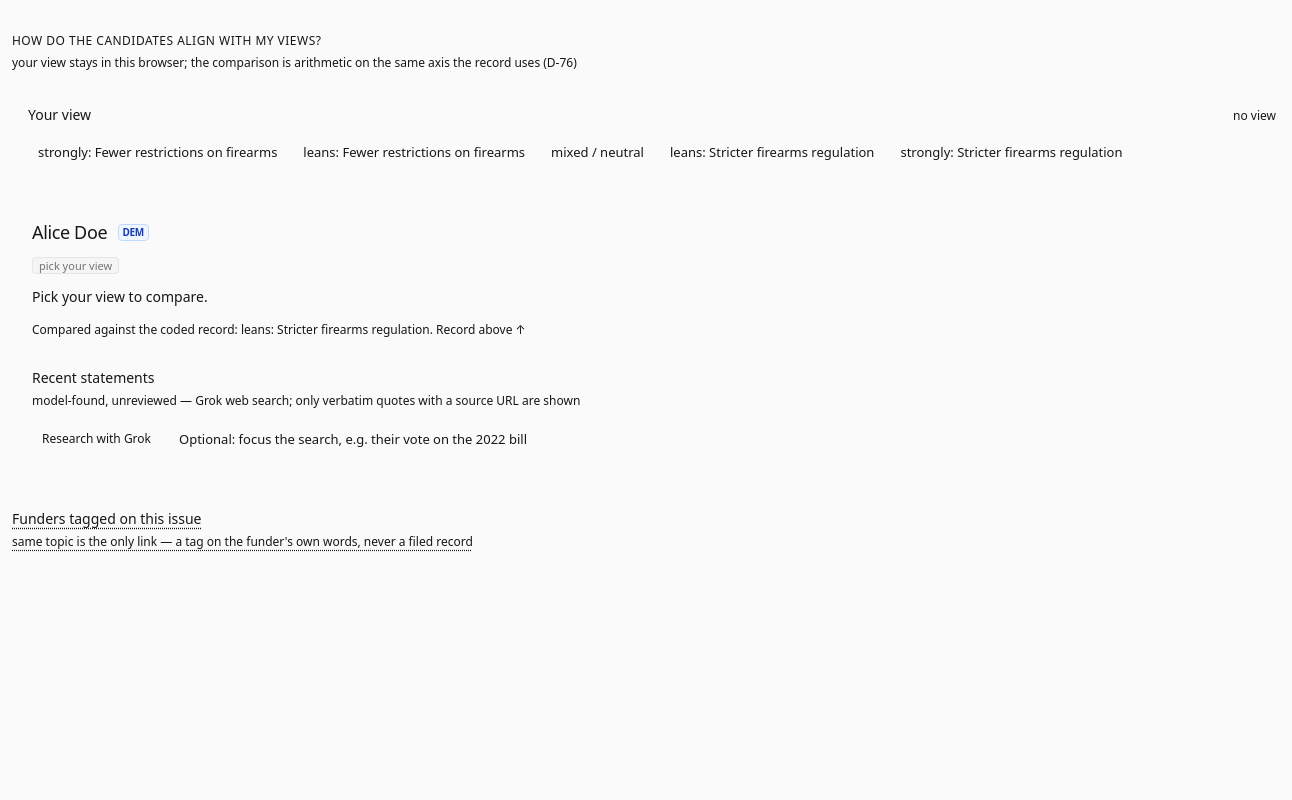
AlignPanel › submits a trimmed question and shows the focused-on copy
The width and height of the screenshot is (1292, 800).
Type "  How did they vote?  " into the field named "Research question".
click(396, 439); type("  How did they vote?  ")  # box [169,422,624,456]
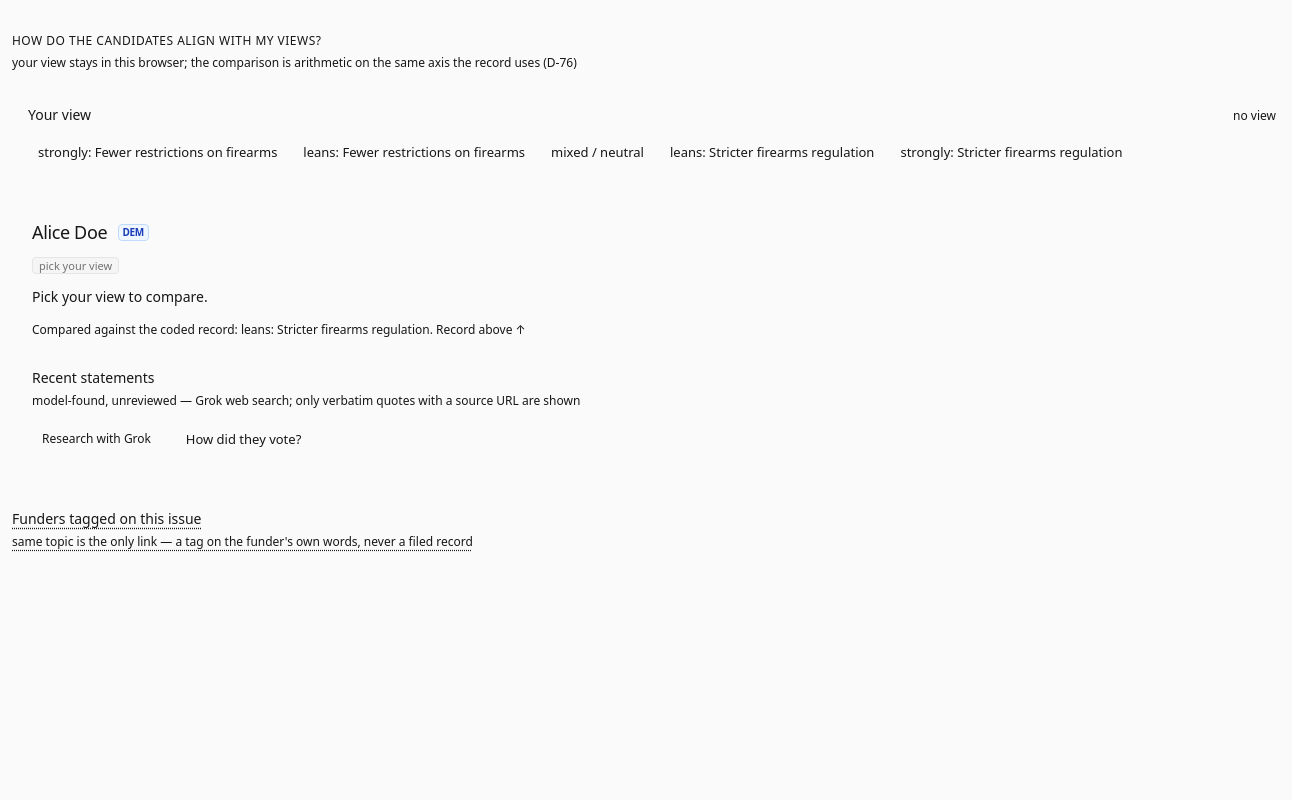
Submit the form named "Research question", box [32,422,624,456]
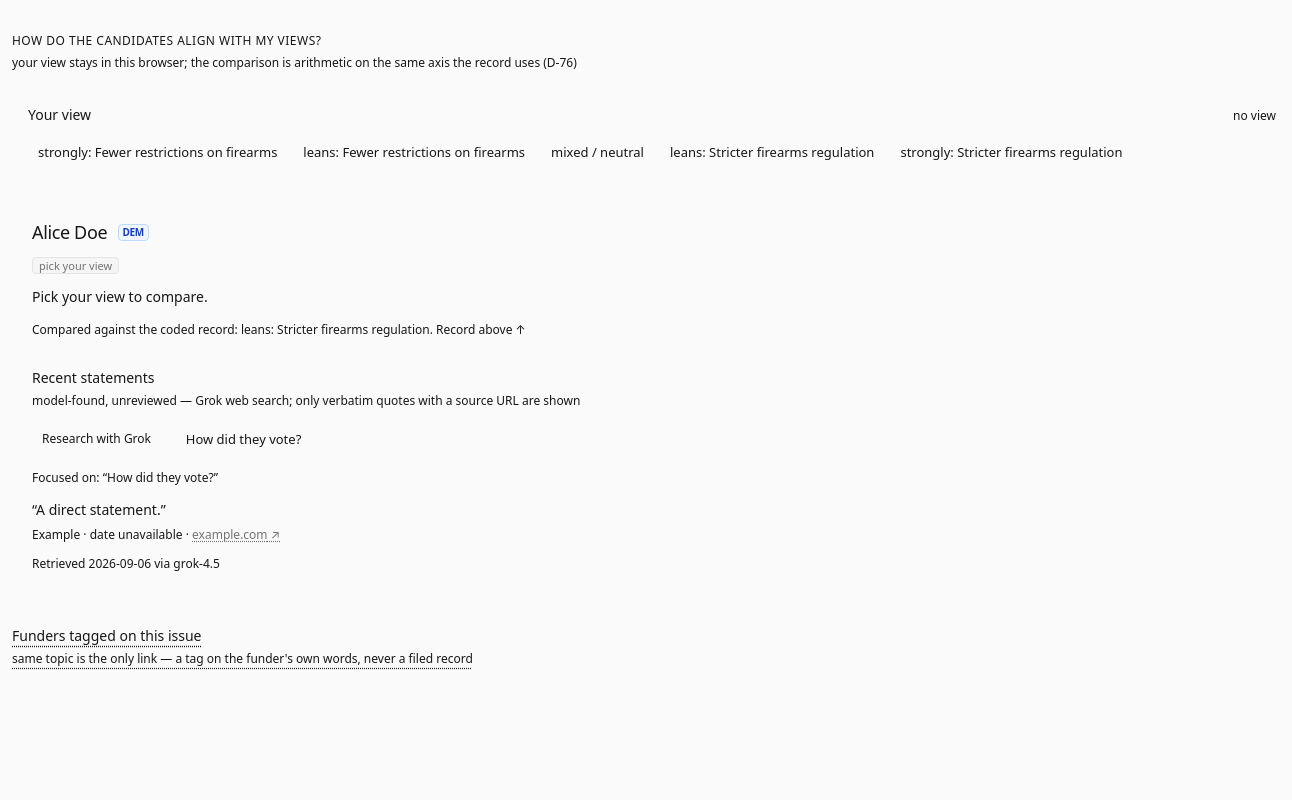
Result: the text "“A direct statement.”" is shown at [32,500,166,519]
Result: the text "Focused on: “How did they vote?”" is shown at [32,469,218,486]
